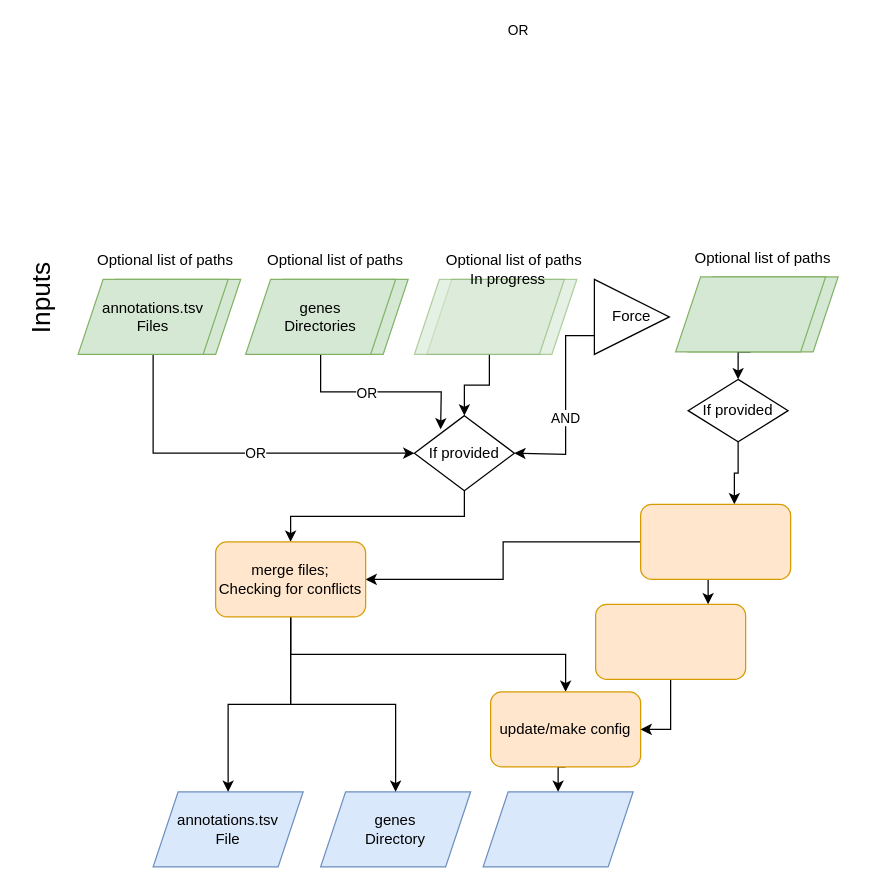
This 871x889 diagram has some shape labels left out. The box of each missing label's shape, as (x1, y1, x2, y2) in pixels:
adjectives.tsv Files: (413, 278, 564, 354)
DRAM Output Directories: (674, 276, 826, 352)
DRAM Output Directory: (482, 791, 633, 867)
Get config information, genes and annotation paths: (639, 503, 791, 579)
merge config: (594, 603, 746, 679)
